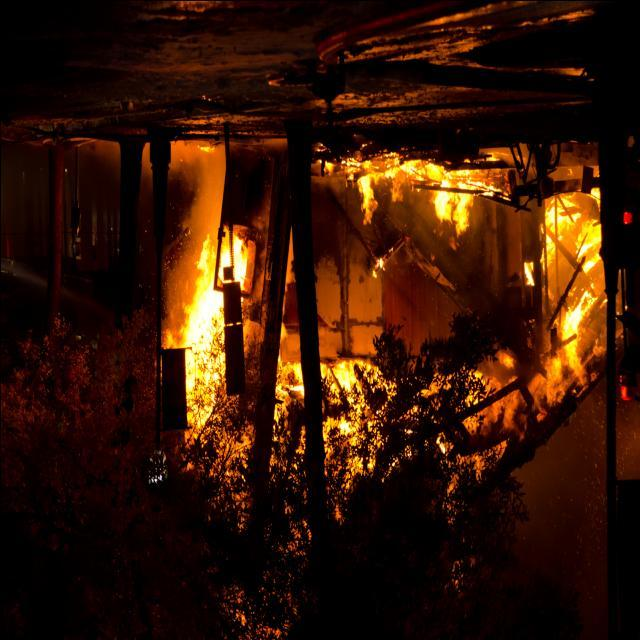Fire: (135, 128, 620, 506)
